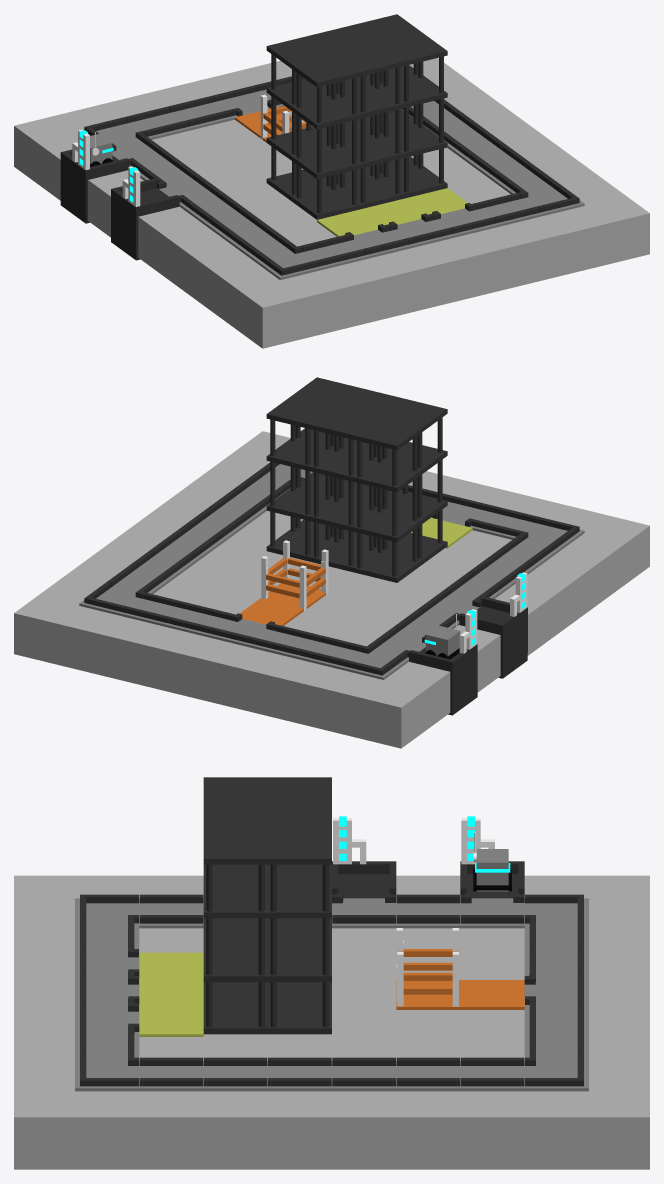
File: MiniWarehouseScene-LowPoly.gltf
The picture shows the model from 3 angles, top to bottom: view 1: azimuth 30°, elevation 25°; view 2: azimuth 150°, elevation 25°; view 3: azimuth 270°, elevation 25°; orthographic projection. The views are drawn at different scales.
Parts seen in each view (by area): view 1: FloorCell (1), Cube (7) (×6), Cube (2) (×4), Cube (5) (×4), Cube (×4), ParkingCell (9) (×2), Cylinder (2) (×4), Cylinder (3) (×3), Cylinder (1) (×2), PickUpcell, PickUpcell (1), PickUpcell (2) (+24 smaller); view 2: FloorCell (1), Cube (7) (×6), Cube (2) (×4), Cube (5) (×4), Cube (×4), Cylinder (1) (×4), ParkingCell (9) (×2), Cylinder (×3), ParkingCell (×2), Cylinder (2) (×2), DropoffFront, PathCell3Way (1) (+24 smaller); view 3: FloorCell (1), Cube (7) (×6), Cube (2) (×4), Cube (5) (×4), Cube (×4), Rail2 (×8), Rail1 (×8), Cylinder (×2), Cylinder (3) (×2), PickUpcell (2), DropoffFront, PickUpcell (+32 smaller).
Part boxes in pixels (x1,y1,x2,y2): FloorCell (1): [14, 58, 649, 348]; Cube (7) (×6): [266, 14, 447, 87]; Cube (2) (×4): [266, 125, 447, 179]; Cube (5) (×4): [266, 75, 447, 129]; Cube (×4): [266, 166, 447, 219]; ParkingCell (9) (×2): [60, 152, 139, 252]; Cylinder (2) (×4): [292, 65, 408, 213]; Cylinder (3) (×3): [352, 56, 443, 204]; Cylinder (1) (×2): [271, 54, 301, 198]; PickUpcell: [317, 209, 380, 236]; PickUpcell (1): [361, 199, 423, 225]; PickUpcell (2): [404, 188, 467, 214]; FloorCell (1): [14, 431, 649, 748]; Cube (7) (×6): [266, 377, 447, 450]; Cube (2) (×4): [266, 488, 447, 542]; Cube (5) (×4): [266, 439, 447, 492]; Cube (×4): [266, 529, 447, 582]; Cylinder (1) (×4): [305, 428, 422, 576]; ParkingCell (9) (×2): [448, 607, 527, 707]; Cylinder (×3): [270, 419, 362, 567]; ParkingCell (×2): [409, 606, 527, 707]; Cylinder (2) (×2): [412, 417, 442, 561]; DropoffFront: [240, 598, 303, 625]; PathCell3Way (1): [209, 619, 273, 647]; FloorCell (1): [14, 875, 649, 1169]; Cube (7) (×6): [203, 777, 331, 864]; Cube (2) (×4): [203, 922, 331, 982]; Cube (5) (×4): [203, 864, 331, 918]; Cube (×4): [203, 982, 331, 1034]; Rail2 (×8): [139, 894, 524, 1065]; Rail1 (×8): [139, 915, 524, 1086]; Cylinder (×2): [258, 864, 329, 1027]; Cylinder (3) (×2): [206, 864, 276, 1027]; PickUpcell (2): [139, 1007, 203, 1036]; DropoffFront: [460, 980, 524, 1009]; PickUpcell: [139, 952, 203, 979].
Size of the model in its own units: 8.96 by 4.01 by 9.9.
